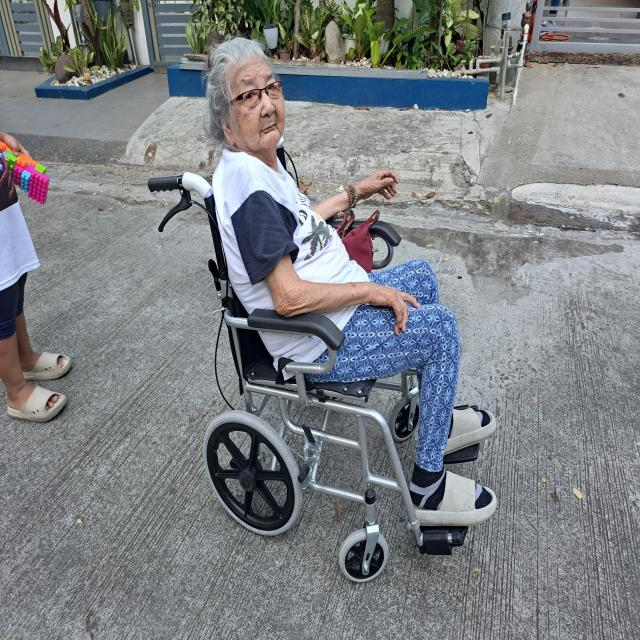wheelchairs: (142, 160, 500, 590)
